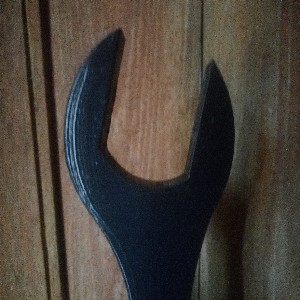spanner: (61, 24, 237, 300)
